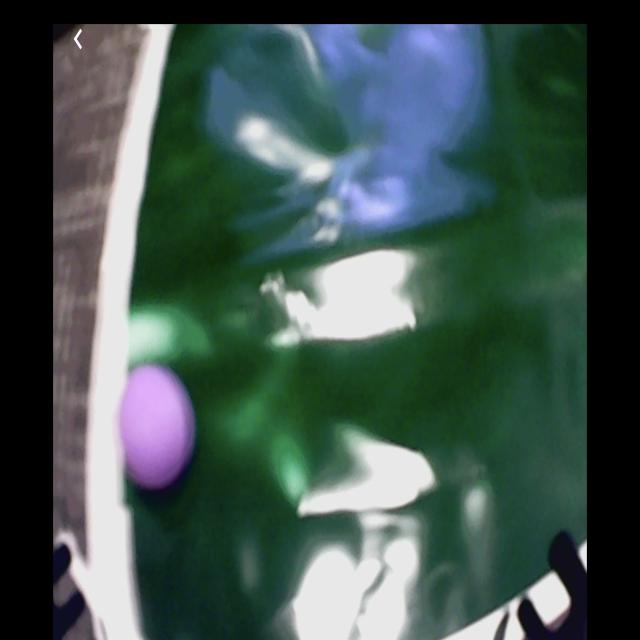ball: (116, 363, 193, 485)
